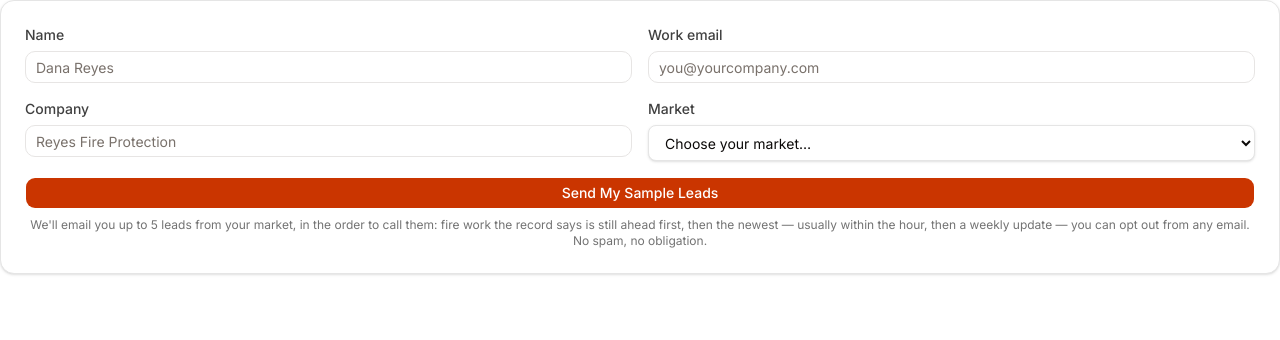
Test: SampleLeadsForm › wires each invalid field to its error with aria-describedby and focuses the first
Type "Dana" into the field labelled "Name" at [328, 67], box [25,51,632,83]
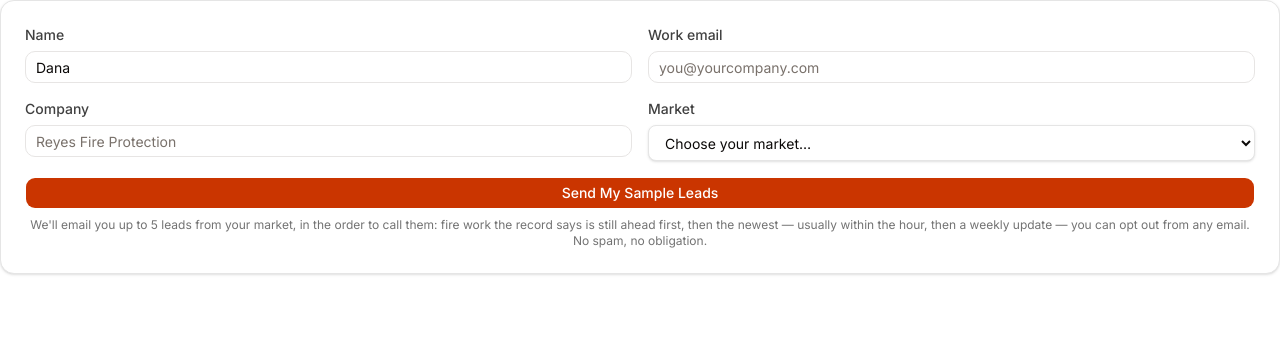
Click the button "Send My Sample Leads" at [640, 193], box [25,177,1255,209]
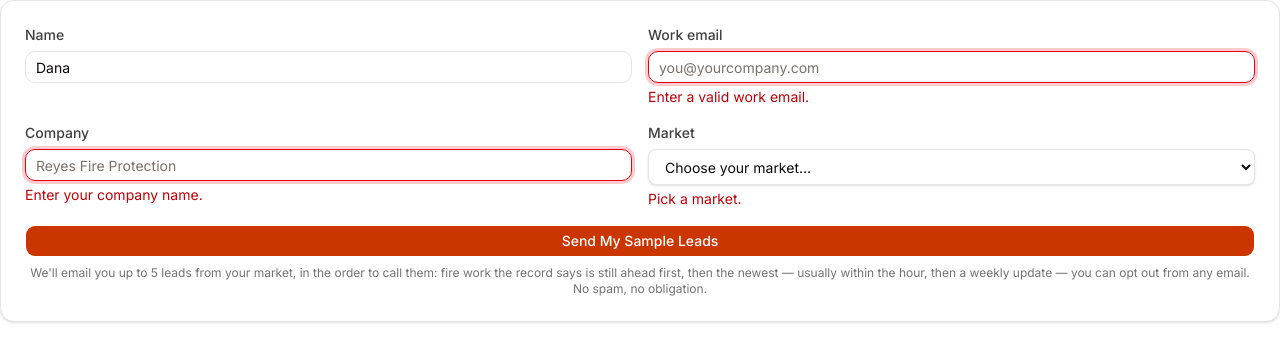
Expected: the text "Enter a valid work email." is shown, [648,88,809,105]
Expected: the text "Enter your company name." is shown, [25,186,203,203]
Expected: the text "Pick a market." is shown, [648,190,742,207]
